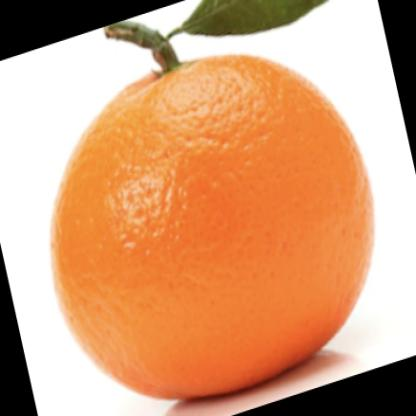fresh: (54, 56, 375, 398)
